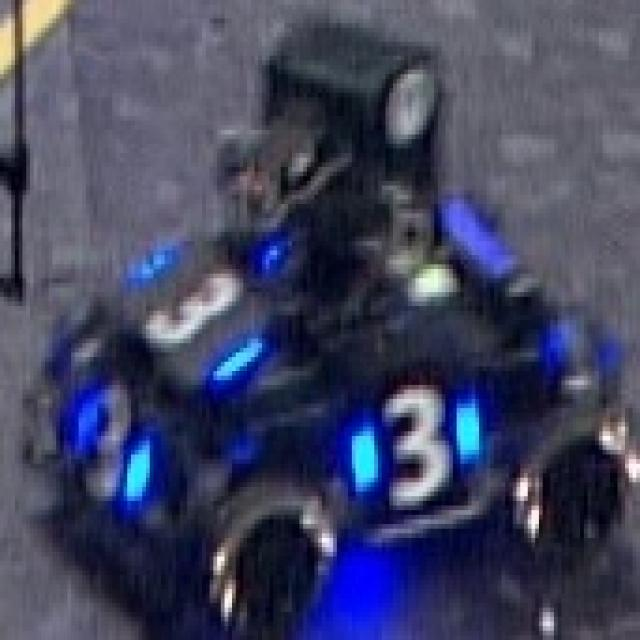B3: (348, 380, 483, 506), (71, 376, 154, 506)
